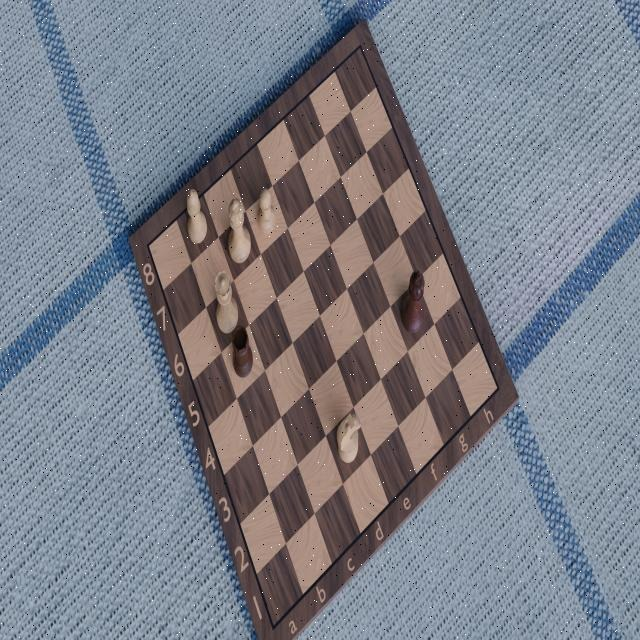black-king: (401, 267, 427, 337)
black-rook: (230, 325, 254, 379)
white-bishop: (185, 189, 211, 249)
white-king: (224, 196, 251, 266)
white-knight: (337, 414, 362, 466)
white-pawn: (255, 189, 277, 239)
white-queen: (215, 271, 241, 333)
